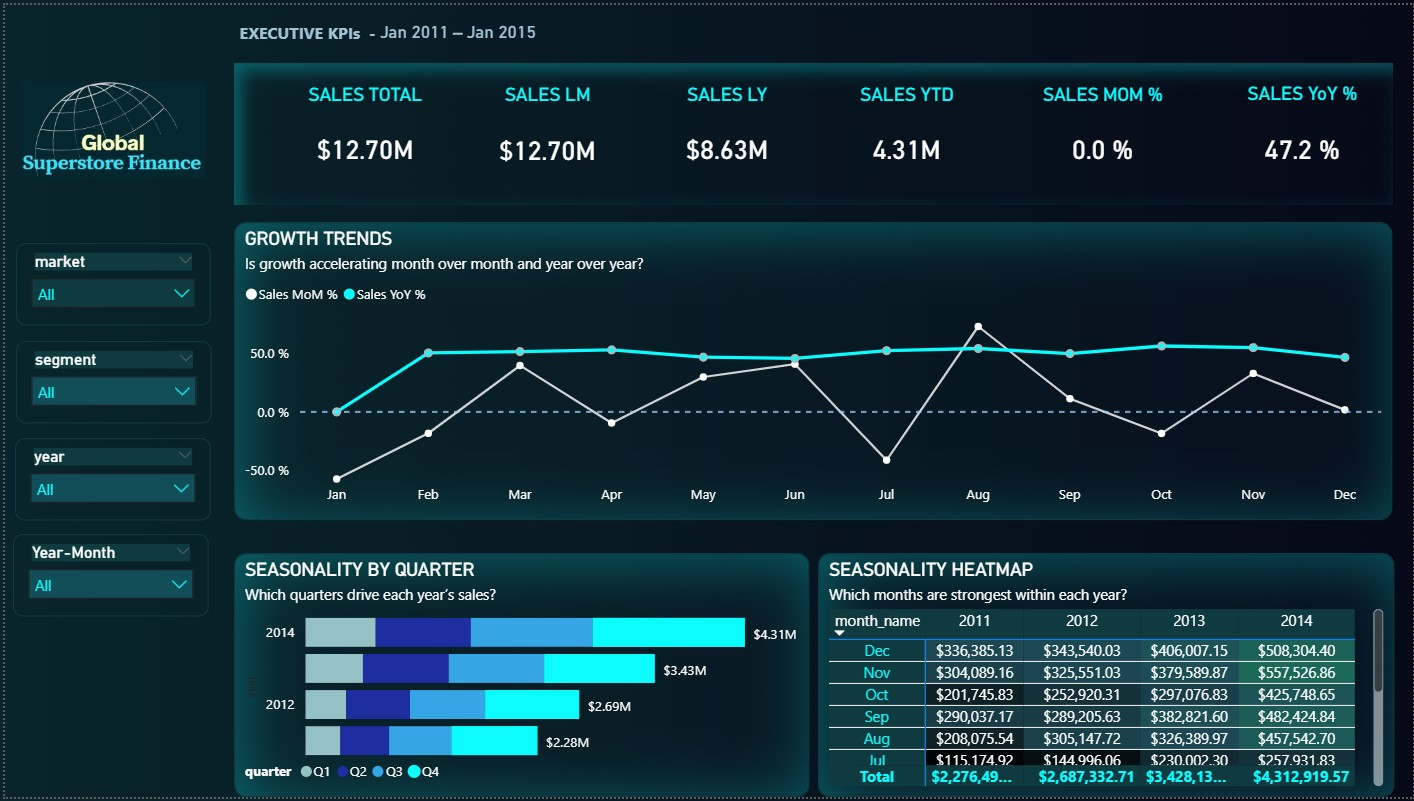

Layout of this report page (visuals, bound fields, positions):
{"tool":"powerbi","page":{"name":"02 time and seasonality","canvas":[1280,720],"ordinal":1},"visuals":[{"type":"shape","box":[208.6,52.4,1054.2,129],"z":0},{"type":"card","title":"SALES TOTAL","fields":{"Values":["_Measures.Sales Total"]},"box":[243.8,71.2,167.5,100],"z":1000},{"type":"slicer","fields":{"Values":["Dim Customer.segment"]},"box":[9.7,305.7,177.7,75],"z":1000,"group":"g1"},{"type":"slicer","fields":{"Values":["Dim Geo.market"]},"box":[10.1,216.7,177.3,75.5],"z":2000,"group":"g1"},{"type":"card","title":"SALES LM","fields":{"Values":["_Measures.Sales LM"]},"box":[411.8,71.2,162.5,102.5],"z":2000},{"type":"card","title":"SALES LY","fields":{"Values":["_Measures.Sales LY"]},"box":[574.8,71.2,163.8,100],"z":3000},{"type":"slicer","fields":{"Values":["Dim Date.year"]},"box":[8.9,394.4,177.7,75.4],"z":3000,"group":"g1"},{"type":"card","title":"SALES YTD","fields":{"Values":["_Measures.Sales YTD"]},"box":[739,71.2,161.2,100],"z":4000},{"type":"slicer","fields":{"Values":["Dim Date.Year-Month"]},"box":[7.1,481.4,177.7,74.6],"z":4000,"group":"g1"},{"type":"card","title":"SALES MOM %","fields":{"Values":["_Measures.Sales MoM %"]},"box":[900.8,71.2,193.8,100],"z":5000},{"type":"card","title":"SALES YoY % ","fields":{"Values":["_Measures.Sales YoY %"]},"box":[1095,70,167.5,102.5],"z":6000},{"type":"textbox","box":[208.3,9.9,193.9,38.6],"z":7000},{"type":"card","fields":{"Values":["_Measures.Active Date Range"]},"box":[327.7,9.9,169.7,31.4],"z":8000},{"type":"lineChart","title":"GROWTH TRENDS","fields":{"Category":["Dim Date.month_name"],"Y":["_Measures.Sales MoM %","_Measures.Sales YoY %"]},"box":[208.6,197.5,1053.2,271.1],"z":9000},{"type":"pivotTable","title":"SEASONALITY HEATMAP","fields":{"Rows":["Dim Date.month_name"],"Columns":["Dim Date.year"],"Values":["_Measures.Sales Total"]},"box":[738.8,497.9,524.1,221.7],"z":10000},{"type":"barChart","title":"SEASONALITY BY QUARTER","fields":{"Category":["Dim Date.year"],"Y":["_Measures.Sales Total"],"Series":["Dim Date.quarter"]},"box":[208.6,497.9,523.1,221.7],"z":11000},{"type":"group","id":"g1","title":"Group 1","box":[7.1,216.7,180.4,338.6],"z":12000},{"type":"image","box":[9.1,47.4,178.4,134],"z":12001}]}

Visuals, with their boxes in screenshot pixels (x1, y1, x2, y2), scaled from the page's 1280x720 canvas onto the 1414x801 screenshot:
shape: rect(230, 58, 1395, 202)
"SALES TOTAL" card: rect(269, 79, 454, 190)
slicer - Dim Customer.segment: rect(11, 340, 207, 424)
slicer - Dim Geo.market: rect(11, 241, 207, 325)
"SALES LM" card: rect(455, 79, 634, 193)
"SALES LY" card: rect(635, 79, 816, 190)
slicer - Dim Date.year: rect(10, 439, 206, 523)
"SALES YTD" card: rect(816, 79, 994, 190)
slicer - Dim Date.Year-Month: rect(8, 536, 204, 619)
"SALES MOM %" card: rect(995, 79, 1209, 190)
"SALES YoY % " card: rect(1210, 78, 1395, 192)
textbox: rect(230, 11, 444, 54)
card - _Measures.Active Date Range: rect(362, 11, 549, 46)
"GROWTH TRENDS" lineChart: rect(230, 220, 1394, 521)
"SEASONALITY HEATMAP" pivotTable: rect(816, 554, 1395, 800)
"SEASONALITY BY QUARTER" barChart: rect(230, 554, 808, 800)
"Group 1" group: rect(8, 241, 207, 618)
image: rect(10, 53, 207, 202)
